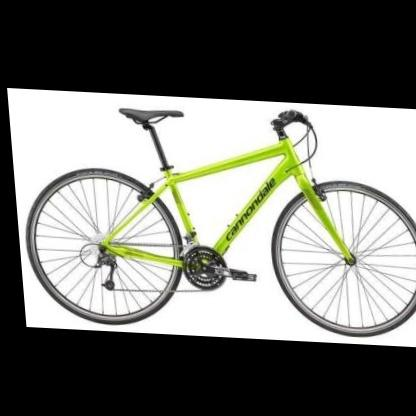Bicycle: (18, 99, 414, 335)
